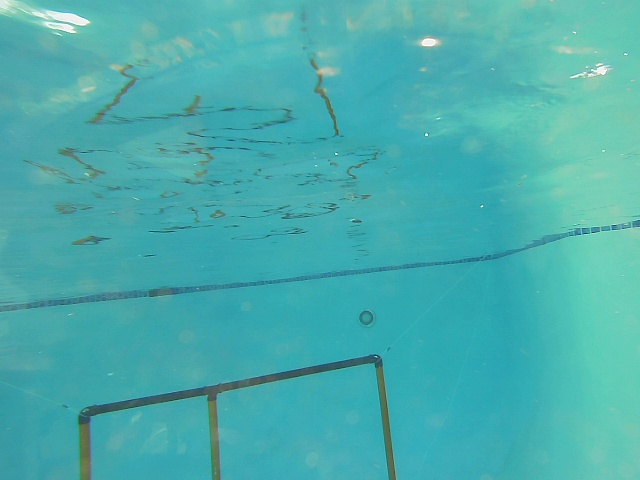Gate: (373, 362, 400, 480), (204, 395, 222, 480), (75, 417, 94, 480)
